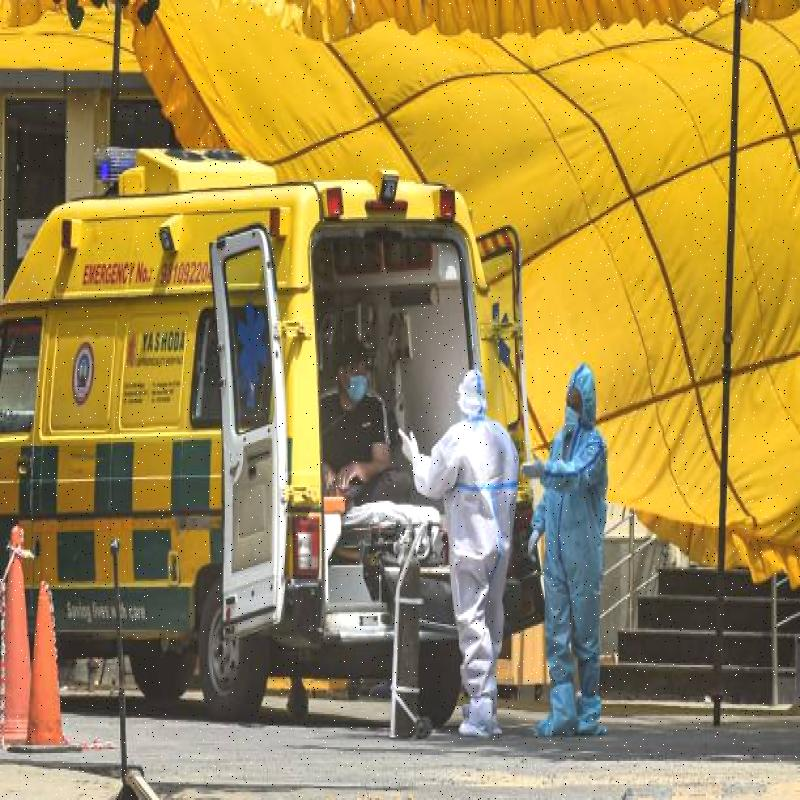ambulance: (1, 140, 454, 686)
